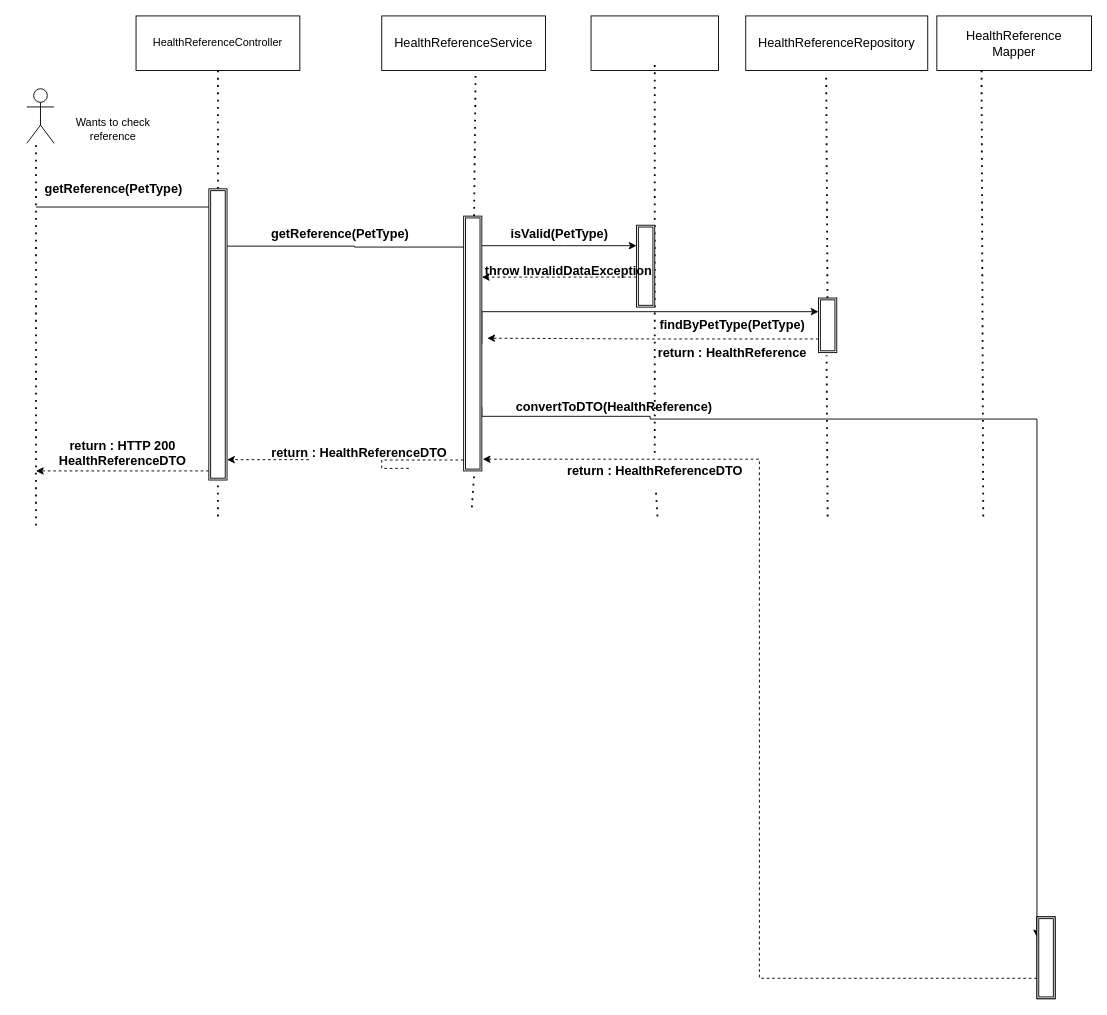
Image size: 1107x1015. Some labels were removed from this diagram. Here are the shapes that lost their labels. From the top down, the box of each, then its label:
(590, 15, 718, 71): PetValidator
(26, 88, 54, 143): Custlomer
